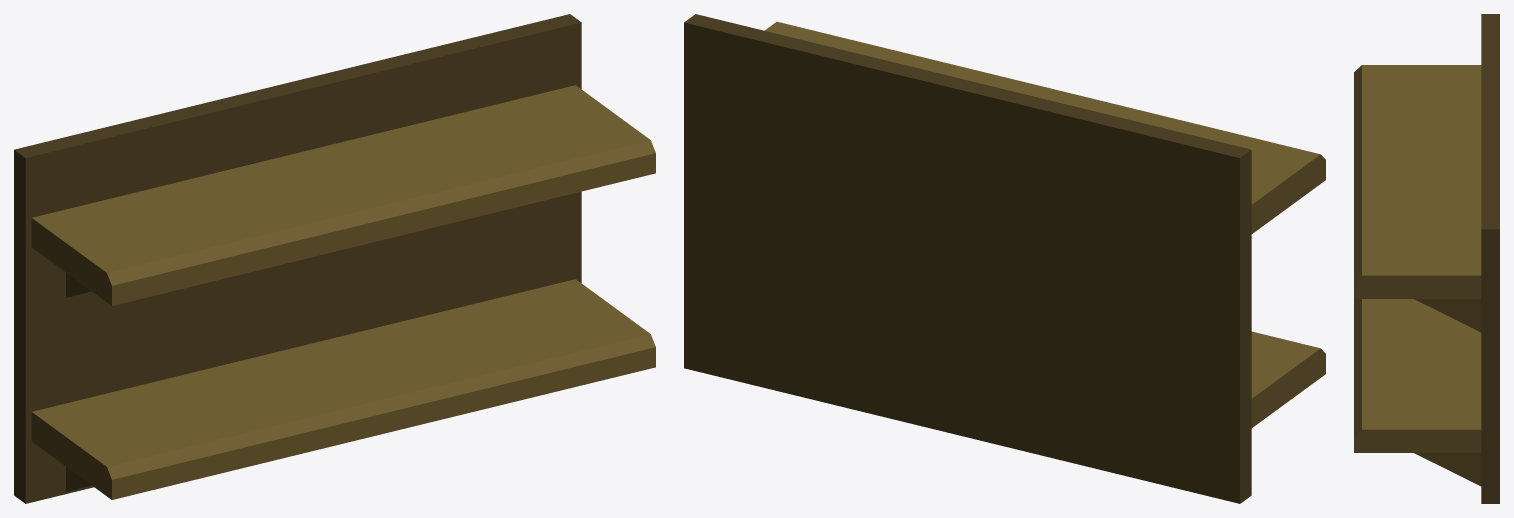
The model's file is shelf.obj.
3 views of the same model, side by side, from view 1: azimuth 30°, elevation 25°; view 2: azimuth 150°, elevation 25°; view 3: azimuth 270°, elevation 25° (orthographic). The views are drawn at different scales.
Size of the model in its own units: 123 by 72.89 by 35.11.
